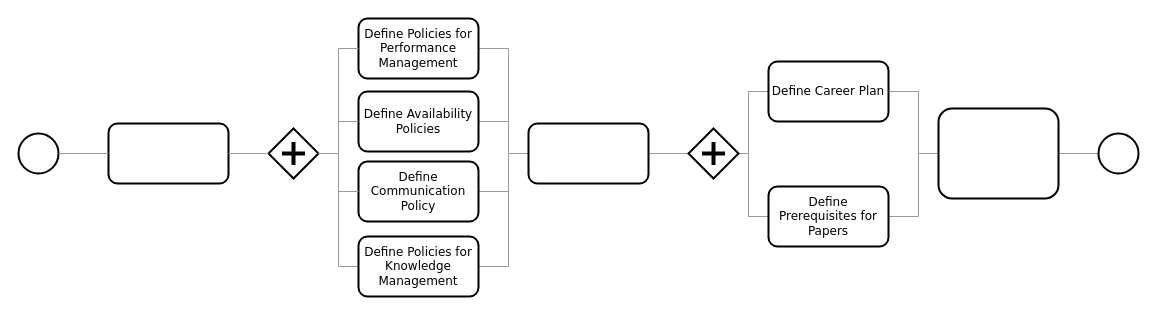
Image size: 1156x314. Some labels were removed from this diagram. Each missing label, with the centre of its shape:
Define Organization Chart: the point at 588,153
Define Resource Requirements: the point at 168,153
Develop the Human Resource Management Plan: the point at 998,153
